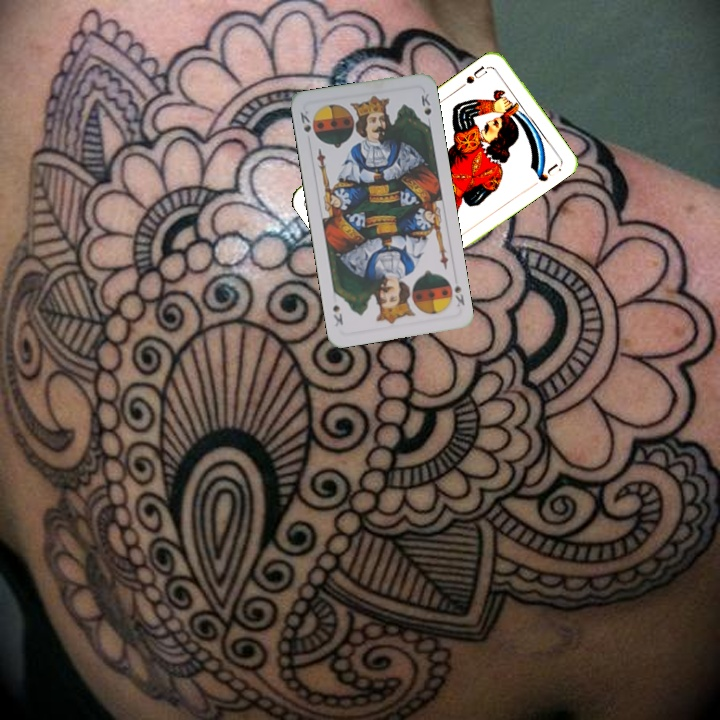SK: (296, 108, 318, 138), (450, 281, 467, 309)
SU: (462, 62, 493, 87)
